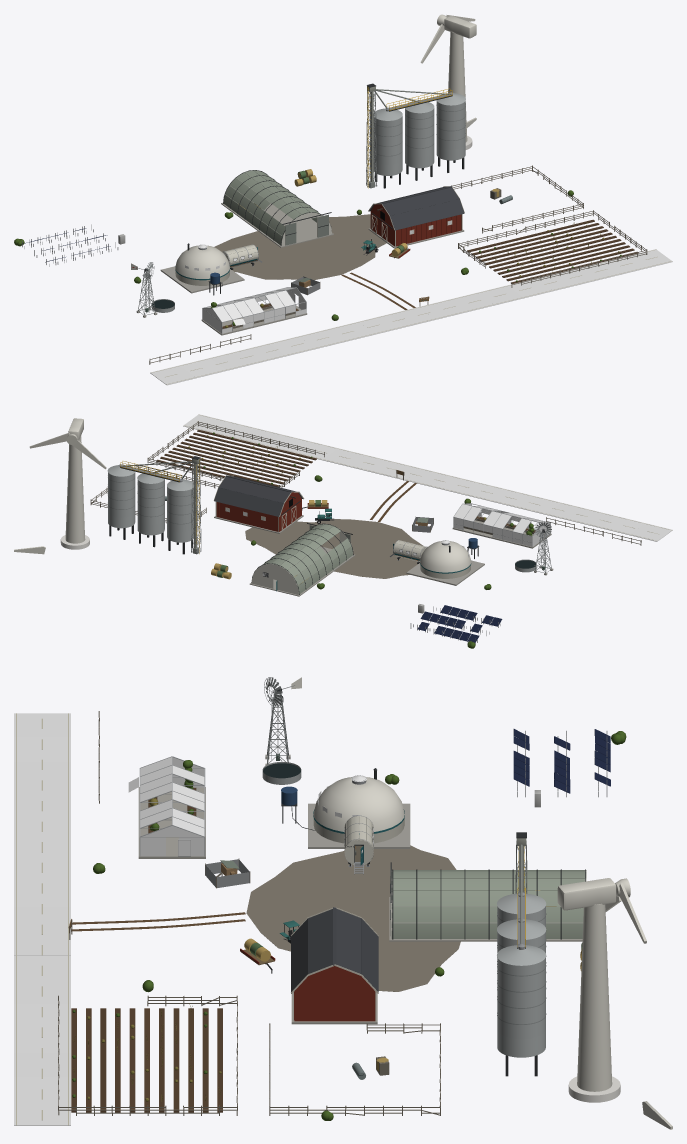
Rendered from homestead.glb.
3 views of the same model, one above another, from view 1: azimuth 30°, elevation 25°; view 2: azimuth 150°, elevation 25°; view 3: azimuth 270°, elevation 25° (orthographic). The views are drawn at different scales.
Visible parts, largest first — view 1: C0_0_lod0, C0_-1_lod0, C1_-1_lod0, C-1_-1_lod0, C1_0_lod0, C-1_0_lod0, C-2_-1_lod0, C-2_0_lod0; view 2: C0_0_lod0, C-1_-1_lod0, C1_-1_lod0, C1_0_lod0, C0_-1_lod0, C-1_0_lod0, C-2_-1_lod0, C-2_0_lod0; view 3: C0_0_lod0, C0_-1_lod0, C-1_-1_lod0, C1_0_lod0, C1_-1_lod0, C-1_0_lod0, C-2_-1_lod0, C-2_0_lod0.
Boxes of the visible parts, x1,y1,x2,y2 form: C0_0_lod0: (214, 83, 461, 309); C0_-1_lod0: (361, 186, 583, 327); C1_-1_lod0: (467, 187, 672, 283); C-1_-1_lod0: (194, 262, 404, 363); C1_0_lod0: (420, 14, 561, 204); C-1_0_lod0: (74, 196, 331, 293); C-2_-1_lod0: (131, 262, 255, 385); C-2_0_lod0: (14, 228, 141, 283); C0_0_lod0: (120, 456, 423, 596); C-1_-1_lod0: (412, 475, 588, 558); C1_-1_lod0: (135, 414, 316, 486); C1_0_lod0: (14, 418, 166, 554); C0_-1_lod0: (205, 434, 449, 533); C-1_0_lod0: (276, 523, 487, 632); C-2_-1_lod0: (515, 509, 672, 575); C-2_0_lod0: (427, 584, 502, 648); C0_0_lod0: (71, 832, 586, 1047); C0_-1_lod0: (14, 907, 377, 1058); C-1_-1_lod0: (14, 756, 341, 914); C1_0_lod0: (345, 878, 672, 1129); C1_-1_lod0: (14, 1008, 345, 1125); C-1_0_lod0: (308, 768, 610, 939); C-2_-1_lod0: (14, 677, 301, 785); C-2_0_lod0: (385, 729, 626, 784).
Size of what is drawn, in the model's own units: 120 by 29.31 by 81.15.
